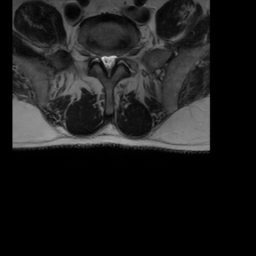CCS_normal: (106, 49, 111, 81)
LFS_normal: (115, 49, 121, 64)
LLS_stenosis: (111, 51, 115, 68)
RFS_normal: (94, 49, 102, 65)
RLS_stenosis: (101, 51, 106, 68)
